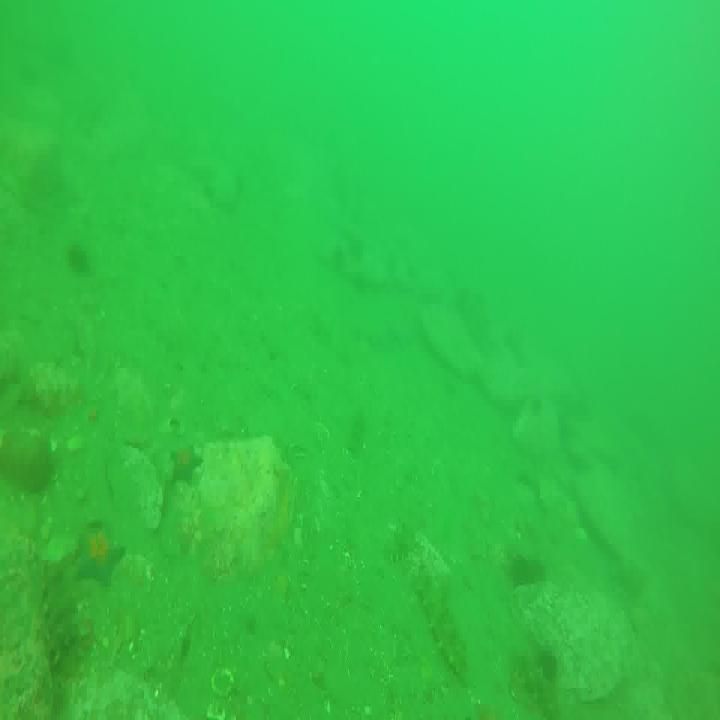echinus: (67, 240, 96, 276), (515, 549, 537, 591)
holothurian: (414, 562, 472, 687), (39, 554, 84, 677), (384, 524, 420, 568)
starfish: (77, 525, 128, 585), (170, 444, 201, 488)
